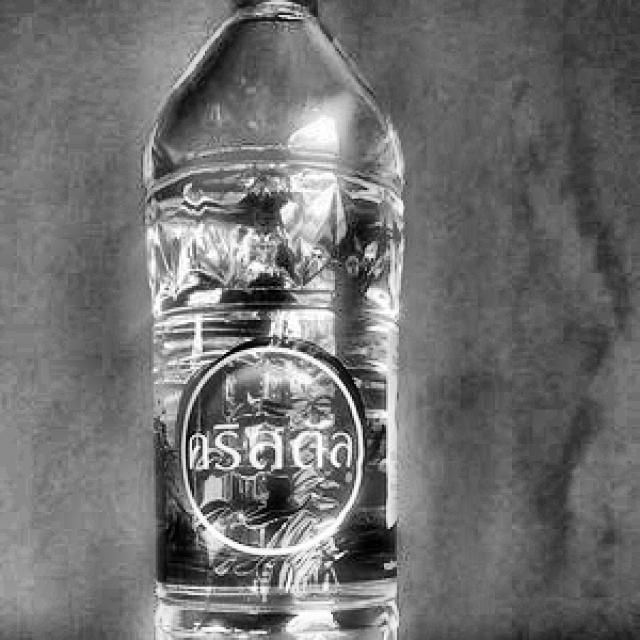waterbottle: (133, 0, 414, 640)
